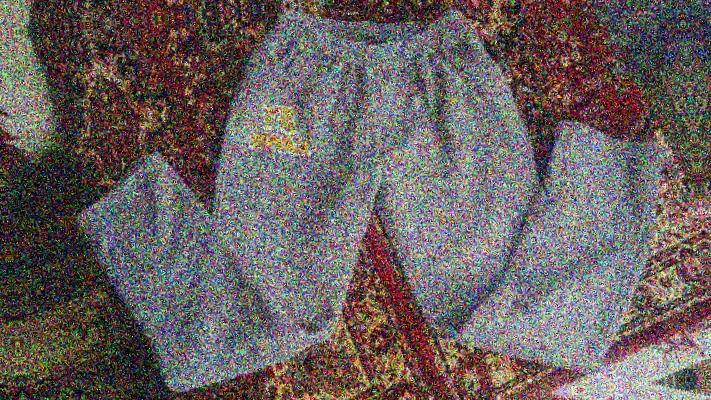Pants: (54, 0, 678, 400), (13, 0, 637, 8), (93, 393, 711, 400)
